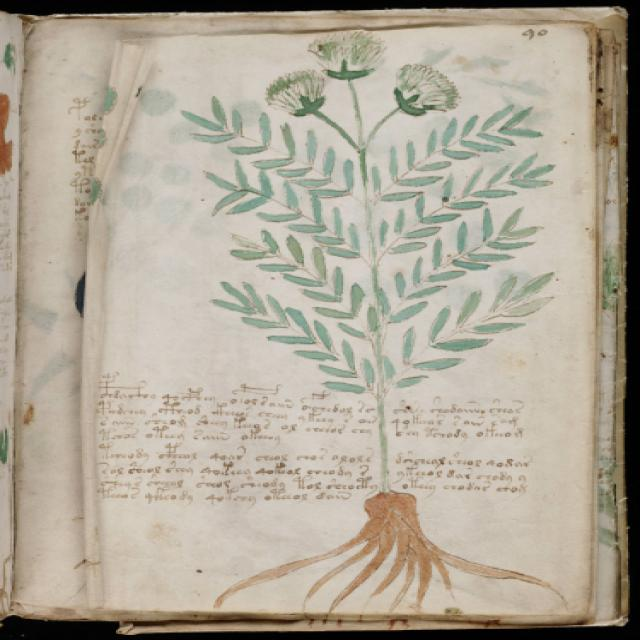plant: (175, 25, 577, 618)
